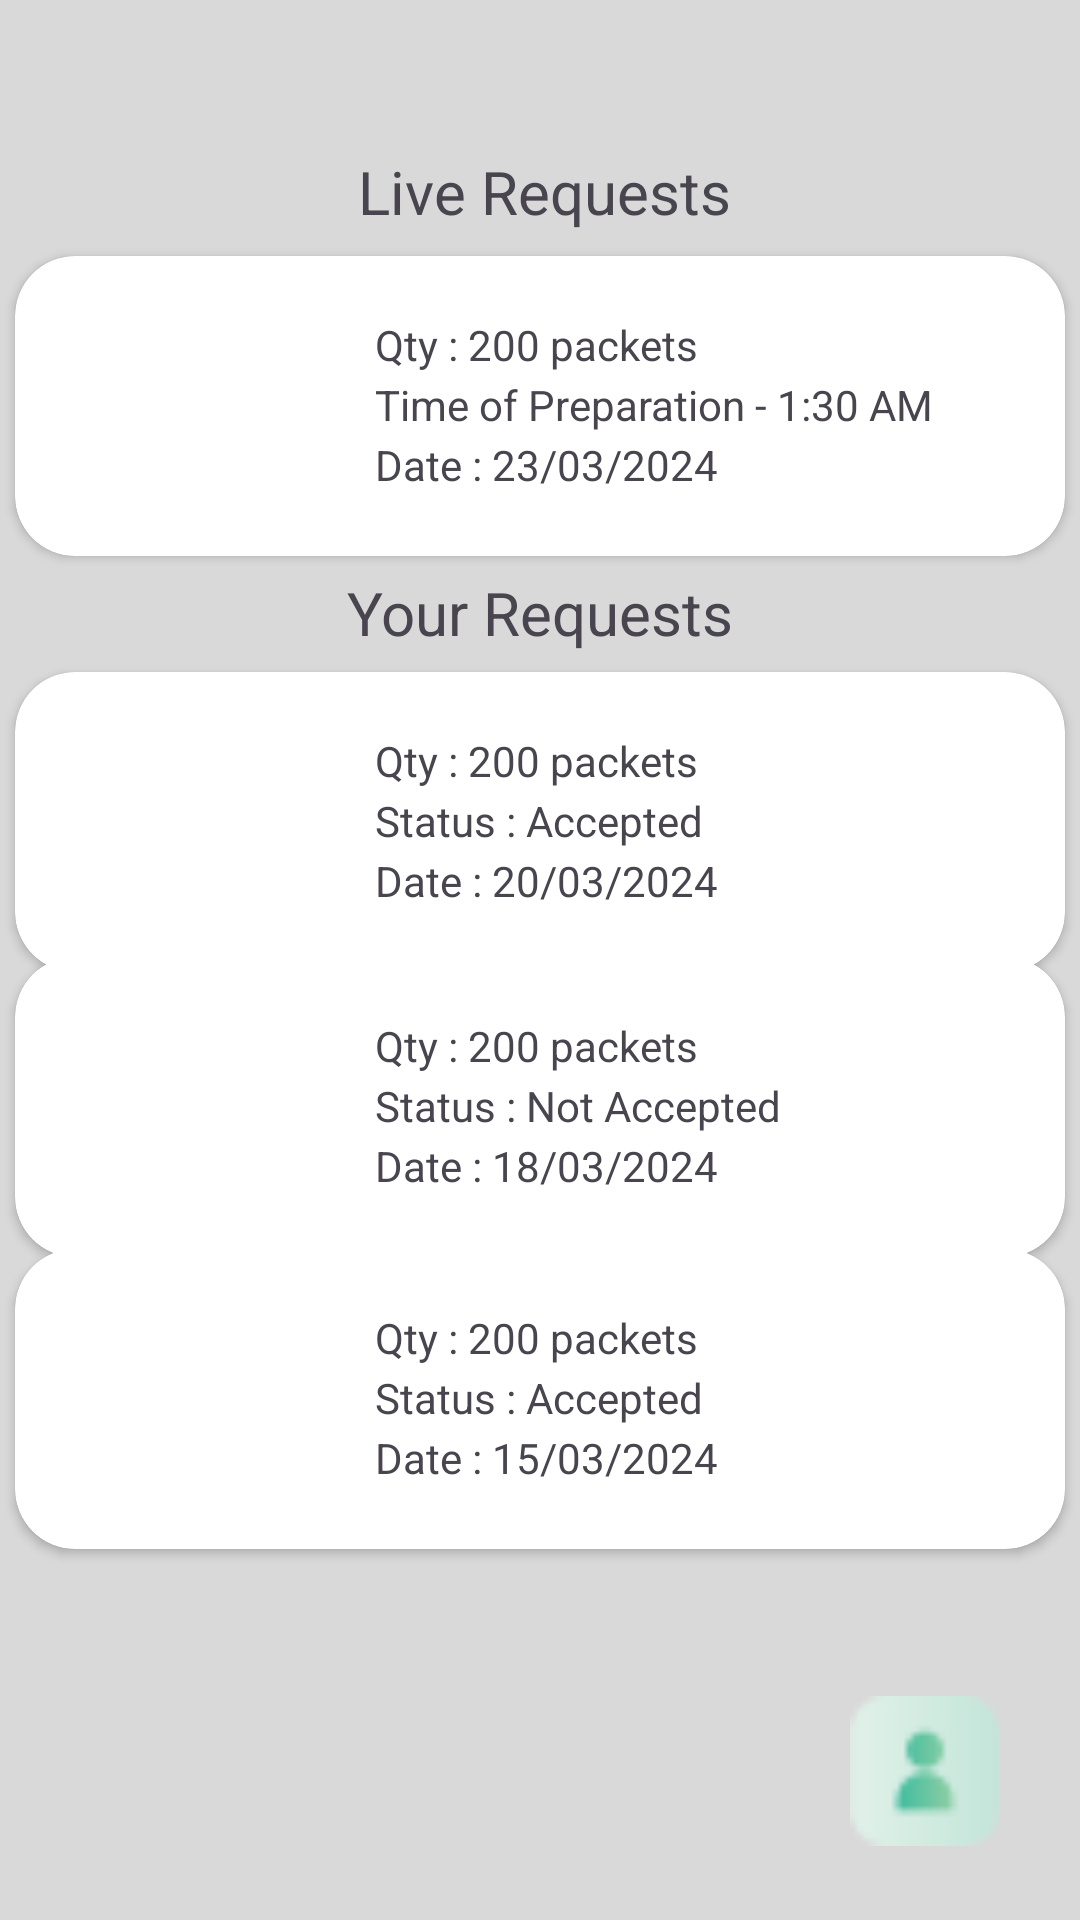

Where to tap for icons on this 1080w x 1920h app screen, as (x=x, y=y):
profile: (x=925, y=1771)
